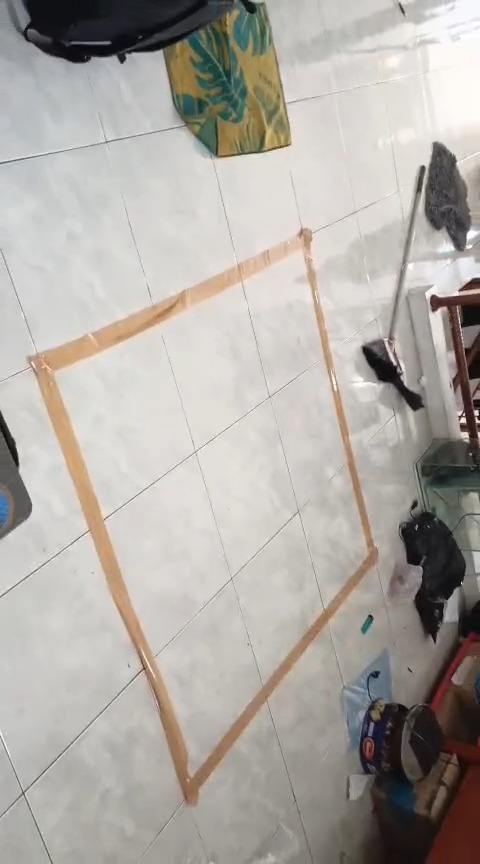floor marking: (30, 229, 377, 803)
